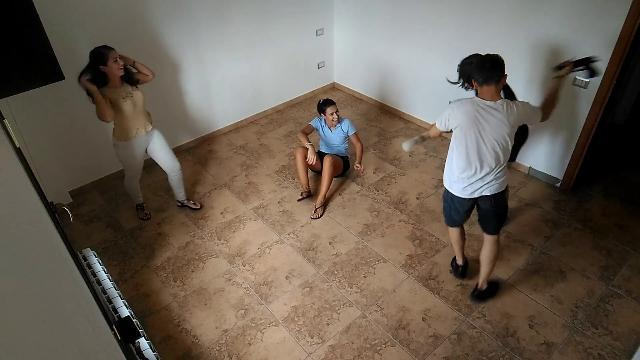non-violence: (76, 44, 204, 224), (292, 97, 366, 223)
violence: (402, 50, 596, 303)
weapon: (555, 55, 599, 76)
